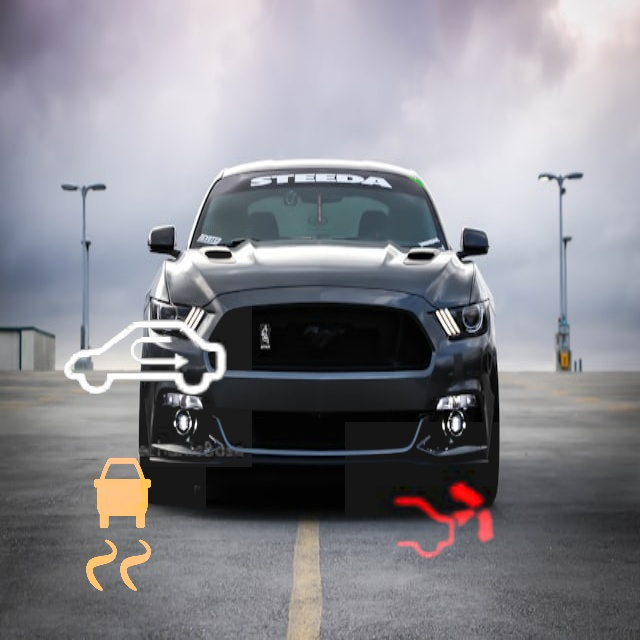symbol: (38, 253, 252, 467), (345, 422, 547, 624), (355, 64, 526, 235), (35, 439, 206, 610)
